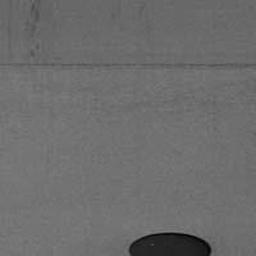Punching: (128, 232, 211, 256)
